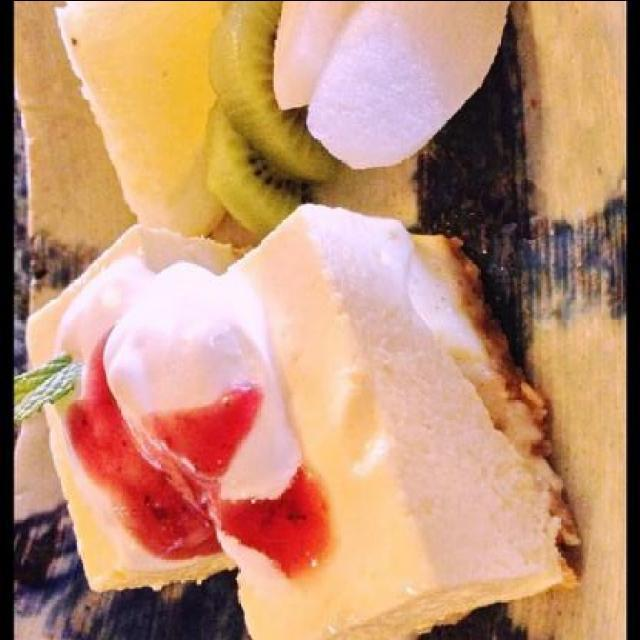Rare cheese cake: (18, 162, 584, 636)
